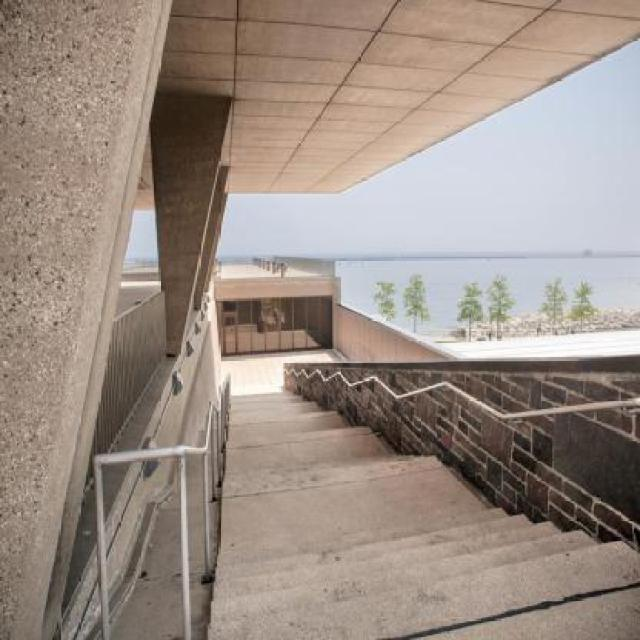stair: (206, 387, 640, 640)
